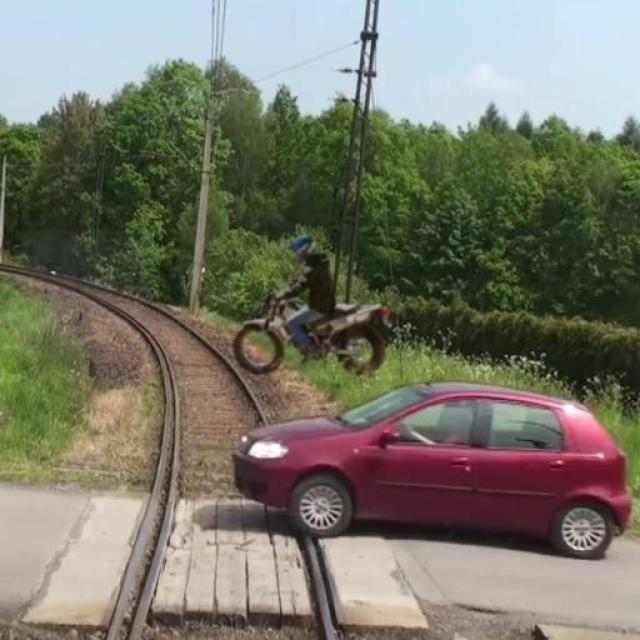vehicle: (228, 375, 632, 560), (232, 283, 402, 378)
